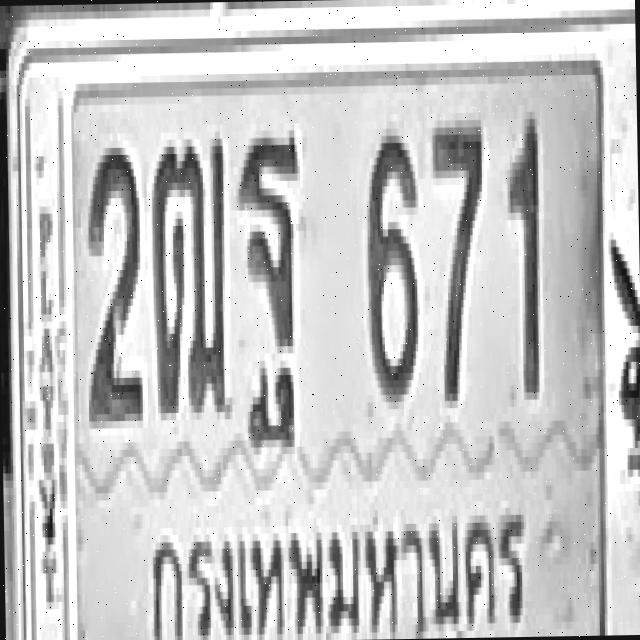1: (506, 115, 542, 396)
2: (84, 140, 143, 421)
25ThorThan: (236, 130, 302, 404)
27ThorPhuThao: (149, 135, 228, 417)
6: (364, 128, 420, 402)
7: (429, 116, 485, 404)
Bangkok: (138, 487, 543, 640)
